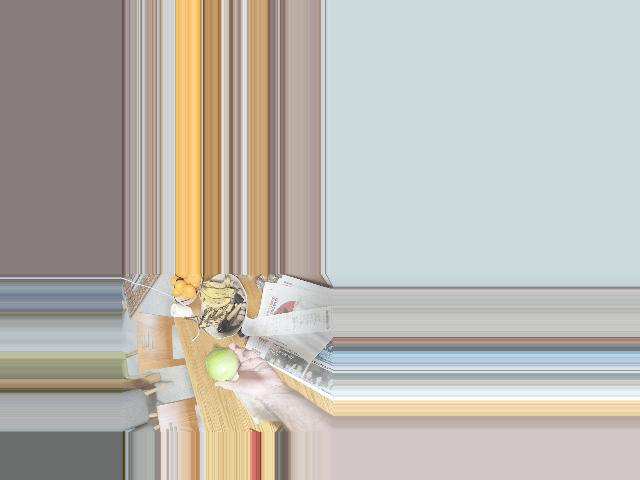apple: (203, 345, 242, 381)
